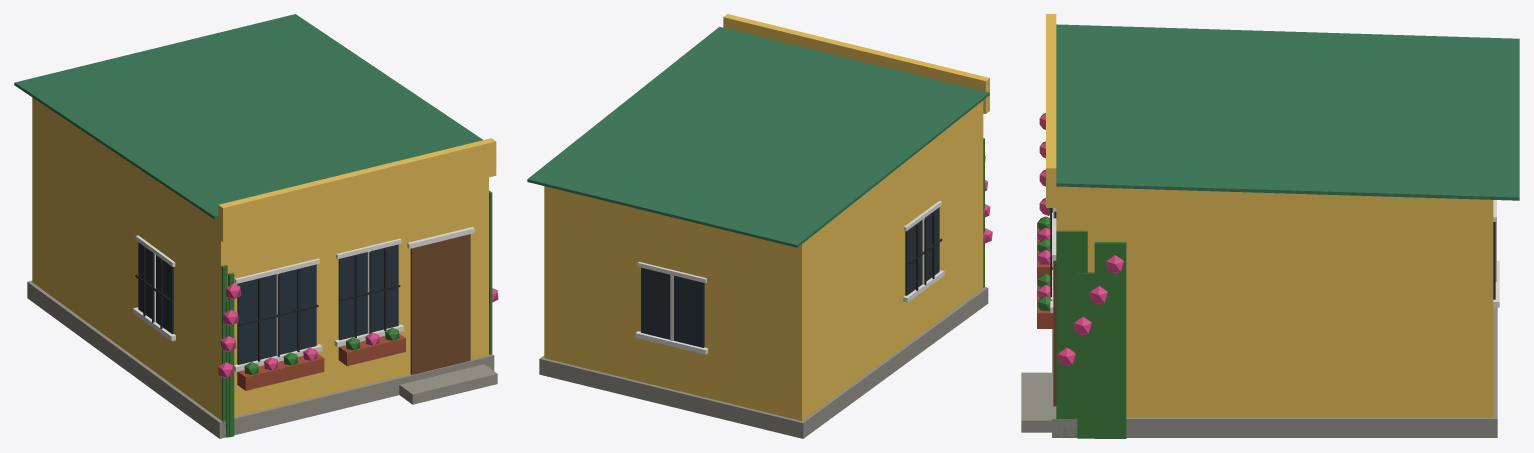
The model's file is BAY_F_Shop_O.glb.
3 views of the same model, side by side, from view 1: azimuth 30°, elevation 25°; view 2: azimuth 150°, elevation 25°; view 3: azimuth 270°, elevation 25° (orthographic). The views are drawn at different scales.
Visible parts, largest first — view 1: BAY_F_Shop_O; view 2: BAY_F_Shop_O; view 3: BAY_F_Shop_O.
Boxes of the visible parts, left/top/right/bottom form: BAY_F_Shop_O: left=14, top=14, right=498, bottom=438; BAY_F_Shop_O: left=527, top=14, right=992, bottom=438; BAY_F_Shop_O: left=1021, top=14, right=1519, bottom=438.
Bounding box in the file's own units: 4.4 × 3.4 × 5.7.
Materials: 1 (1 with a texture image).
